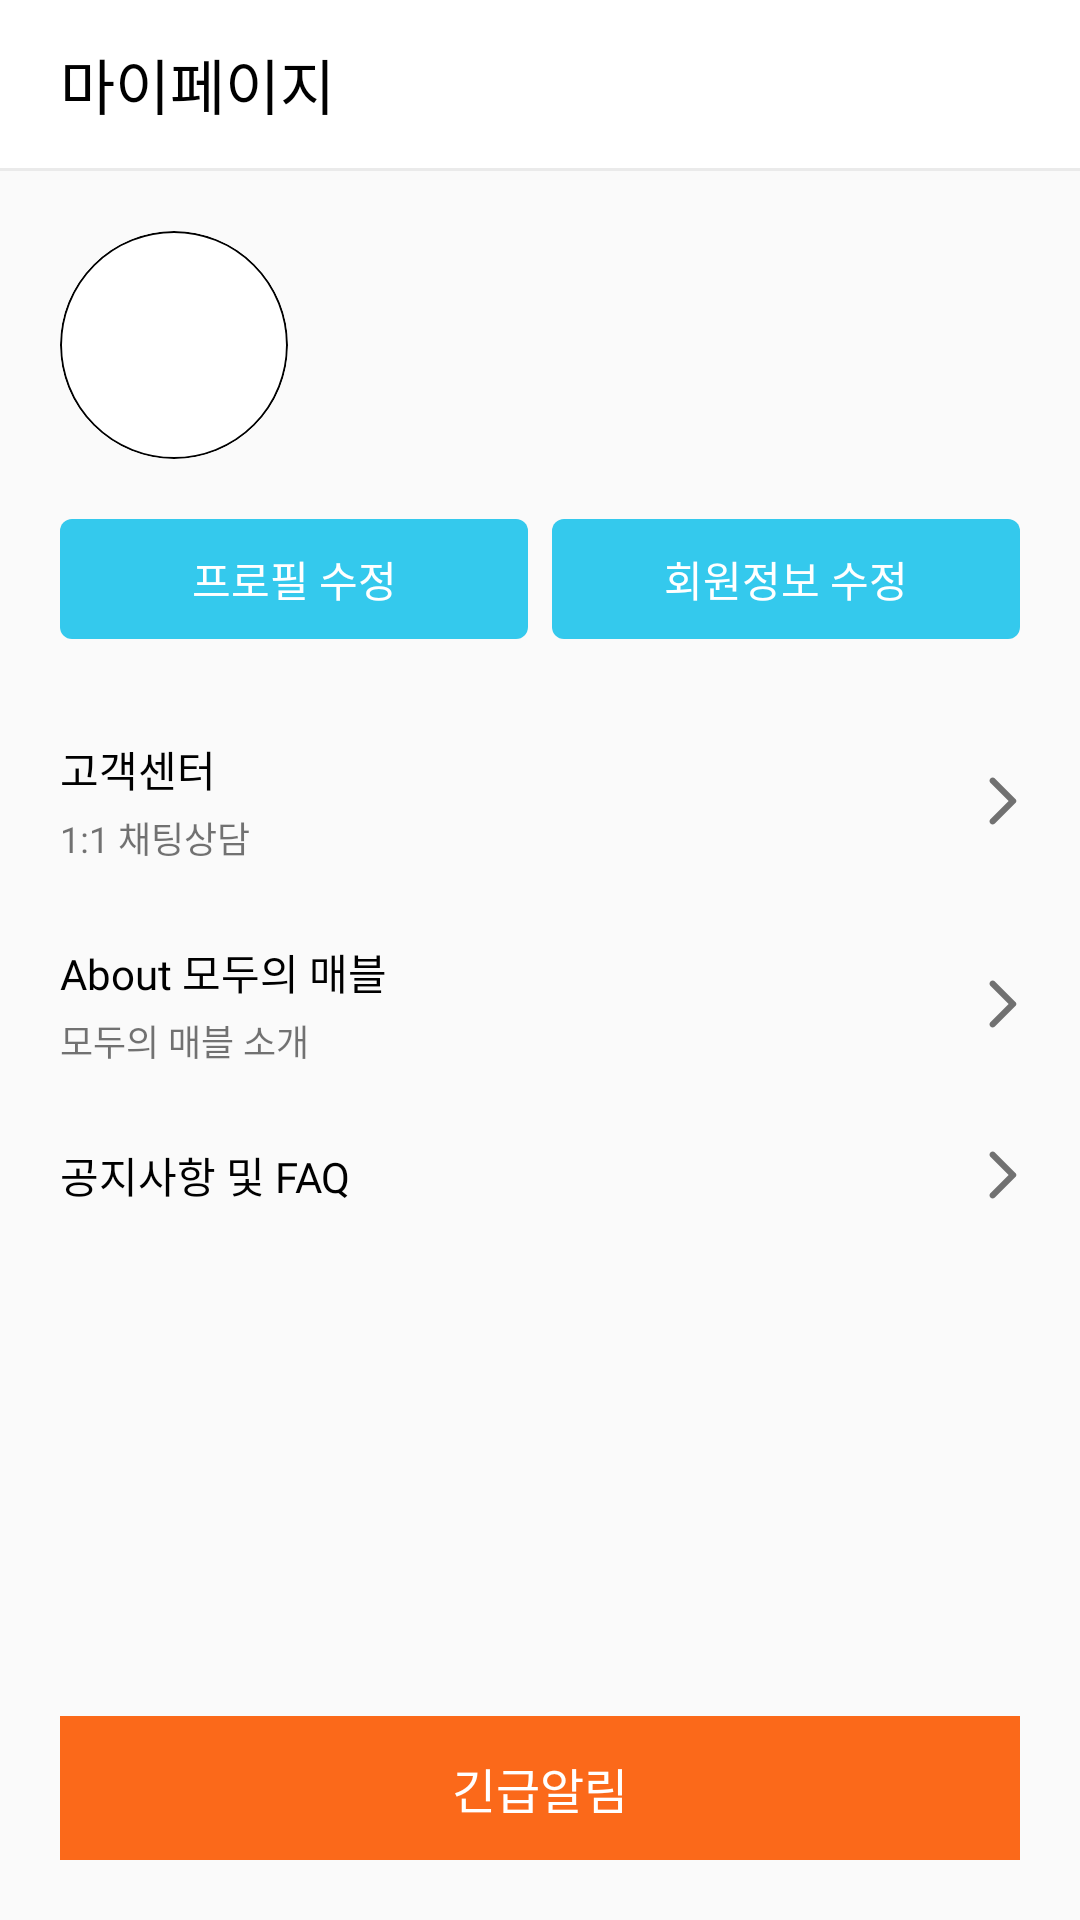

Point at icon controls on the screen. Image size 1080x1920, points as (x,y).
arrow: (1003,801), (1003,1004), (1003,1175)
